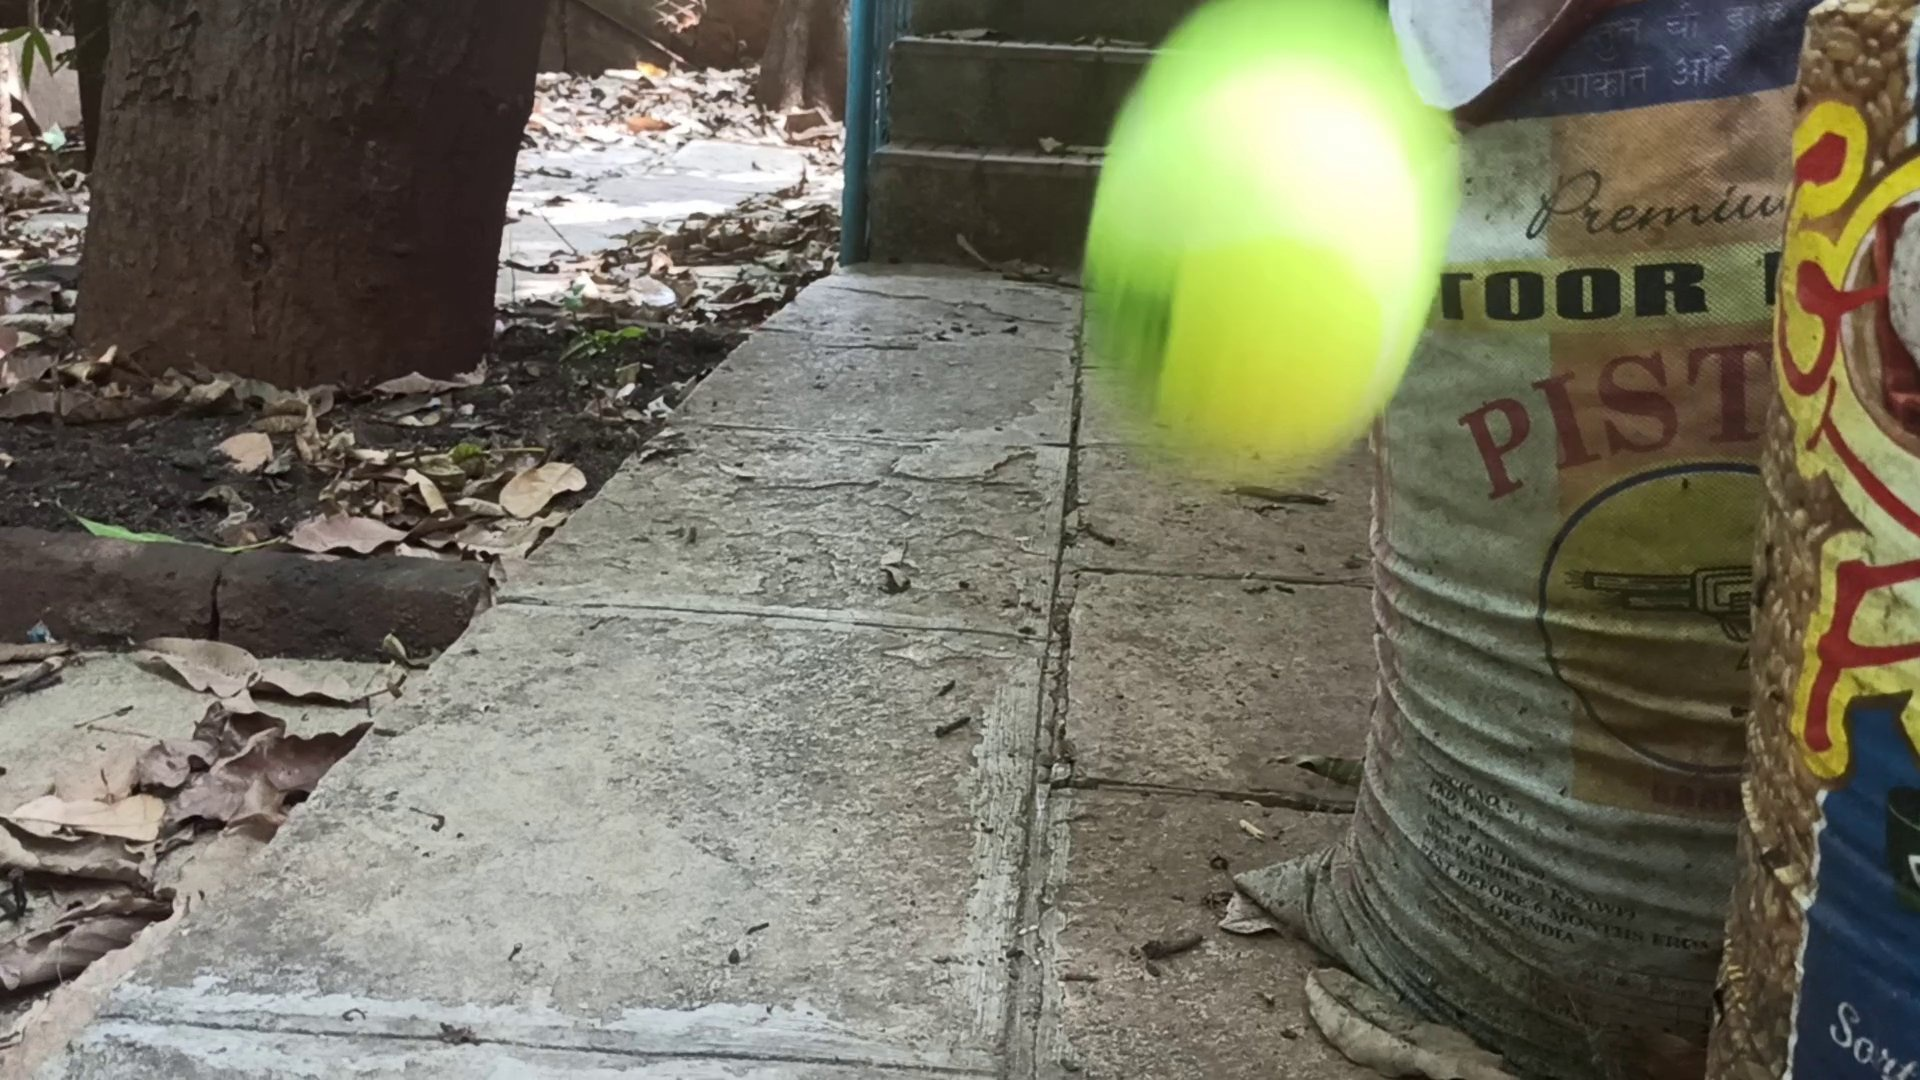Tennis-Ball: (1083, 1, 1455, 462)
